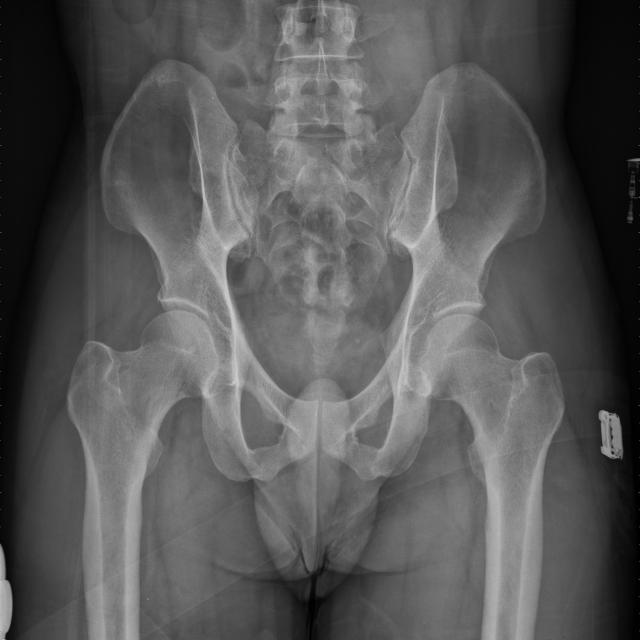normal-left: (420, 315, 565, 640)
normal-right: (67, 311, 219, 640)
